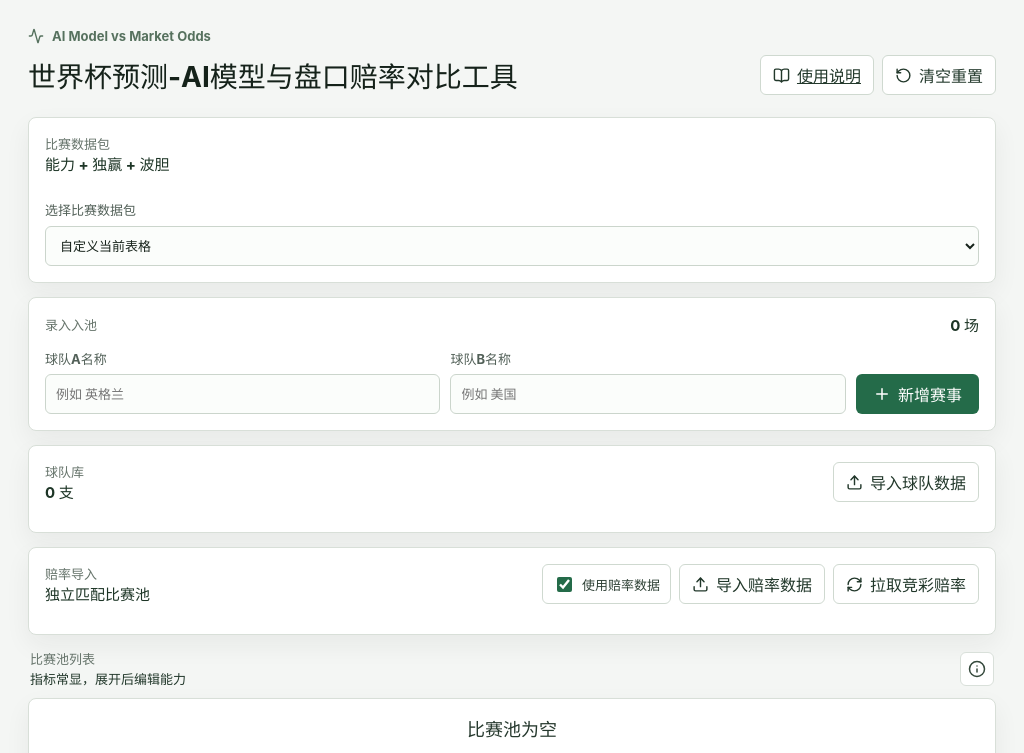
it: App › copies the match pairing when the pairing name is clicked
This screenshot has width=1024, height=753.
Type "英格兰" into the field labelled "球队A名称" at (243, 394), box x1=45 y1=374 x2=440 y2=414
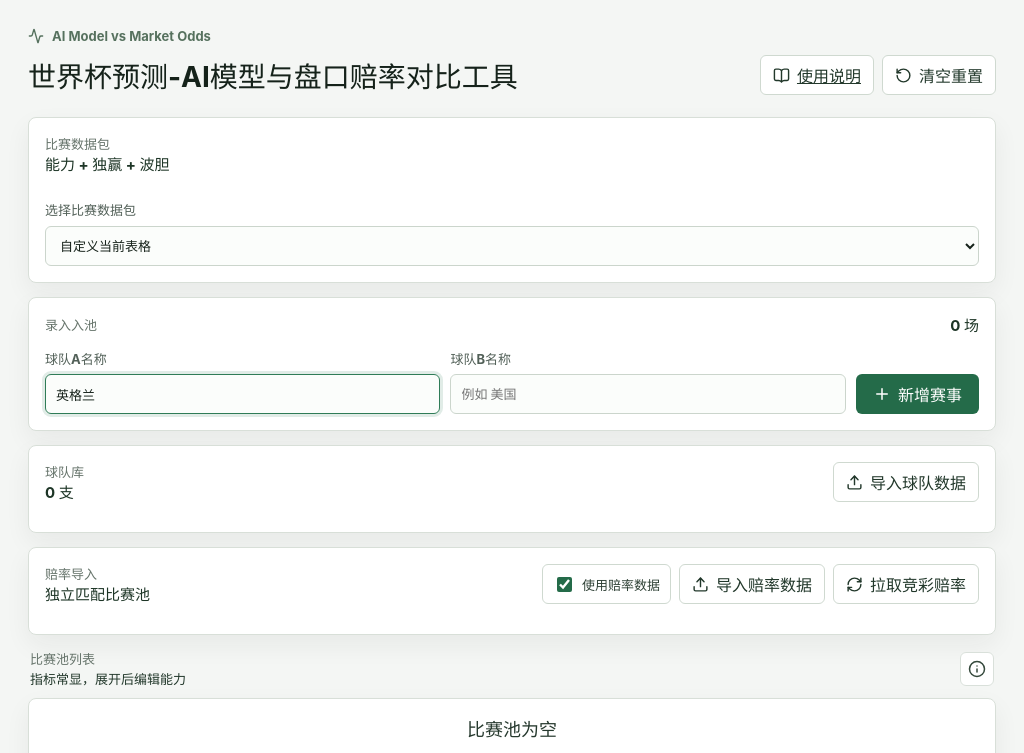
Type "美国" into the field labelled "球队B名称" at (648, 394), box x1=450 y1=374 x2=846 y2=414
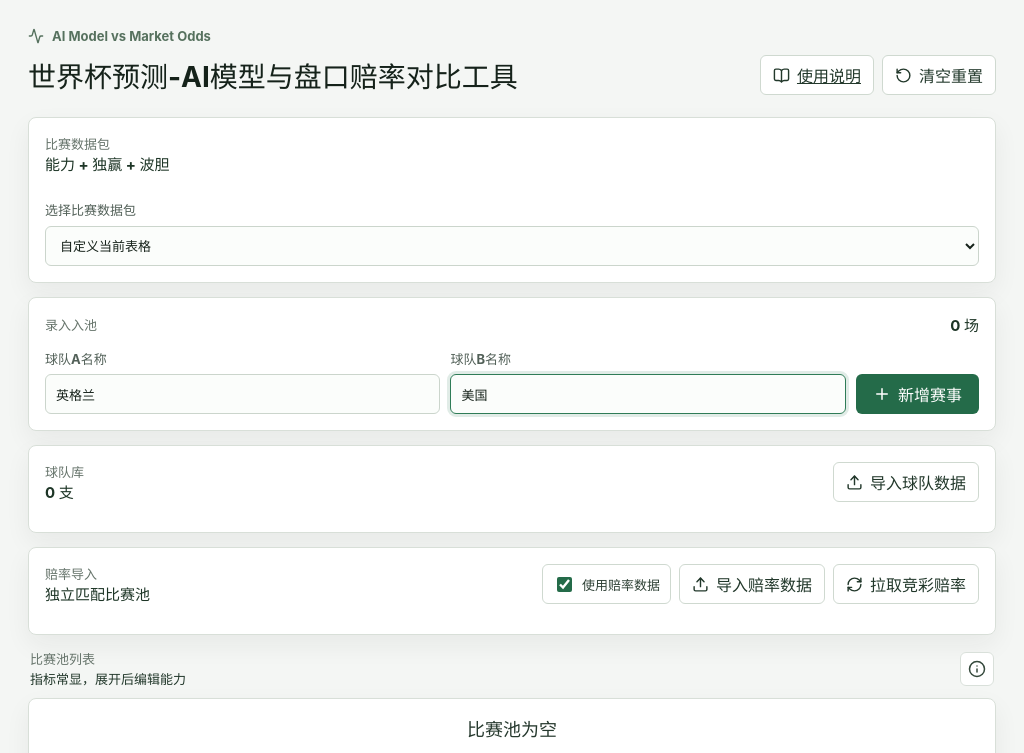
Click the button "新增赛事" at (918, 394), box x1=856 y1=374 x2=979 y2=414
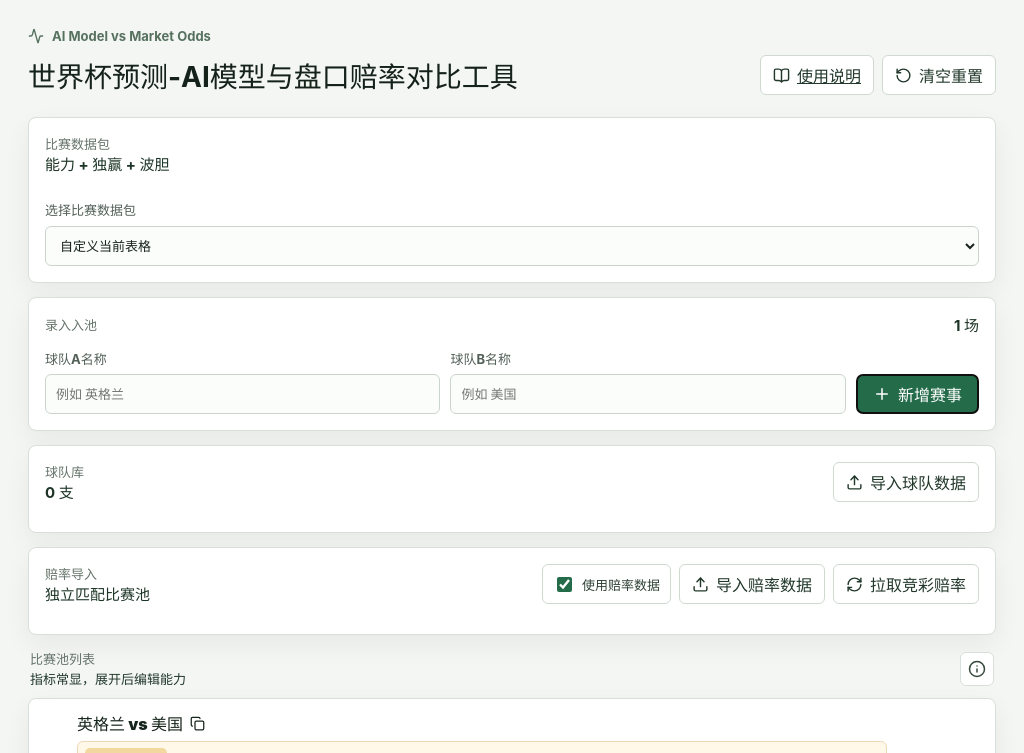
Click the button with aria-label "复制对局 英格兰 vs 美国" at (141, 723), box x1=77 y1=711 x2=205 y2=735
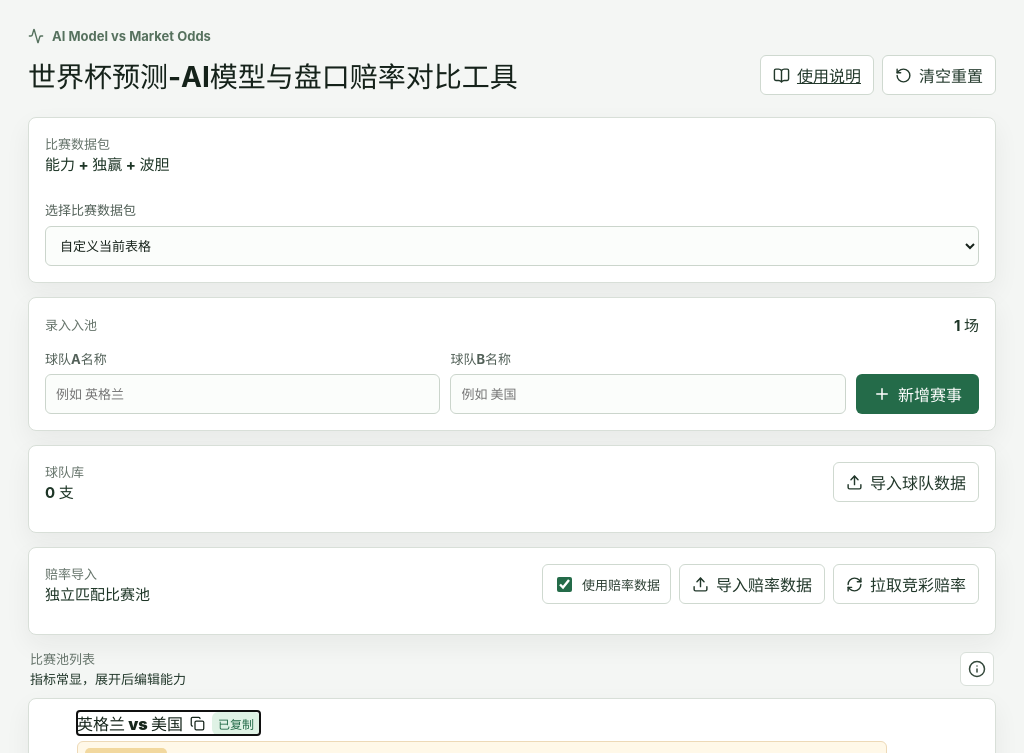
Result: the text "已复制" is shown at x1=212 y1=712 x2=260 y2=734
